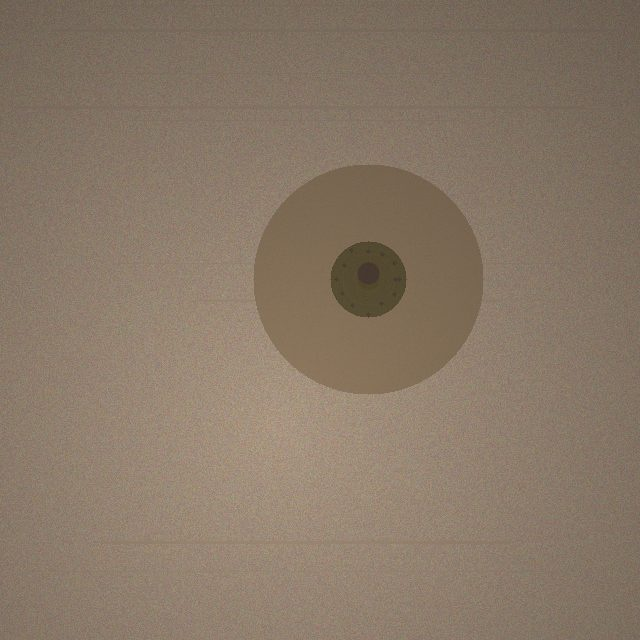cold_weld: (253, 164, 483, 394)
